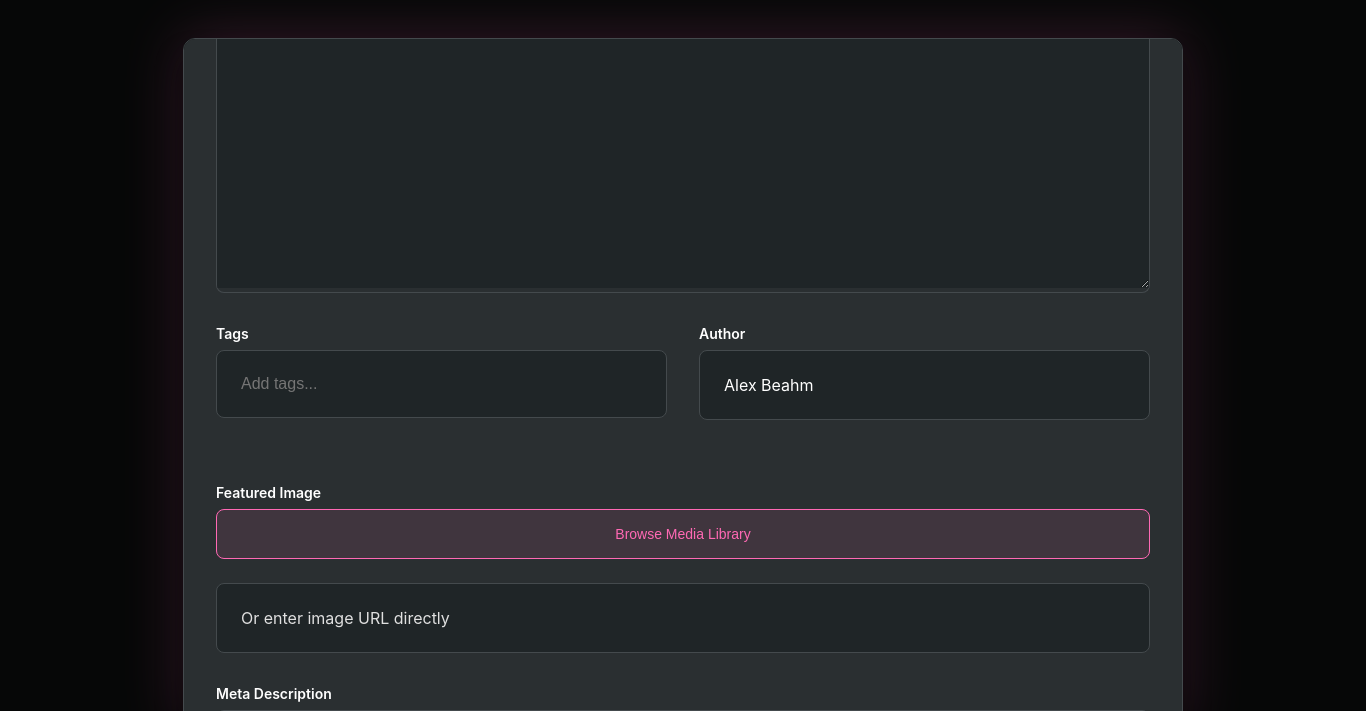
it: ArticleEditor › Tag Management › adds tag from suggestions
The image size is (1366, 711).
(page scrolled)
Type "Java" into the field with class "tag-input" at (442,384), box [216,350,667,418]
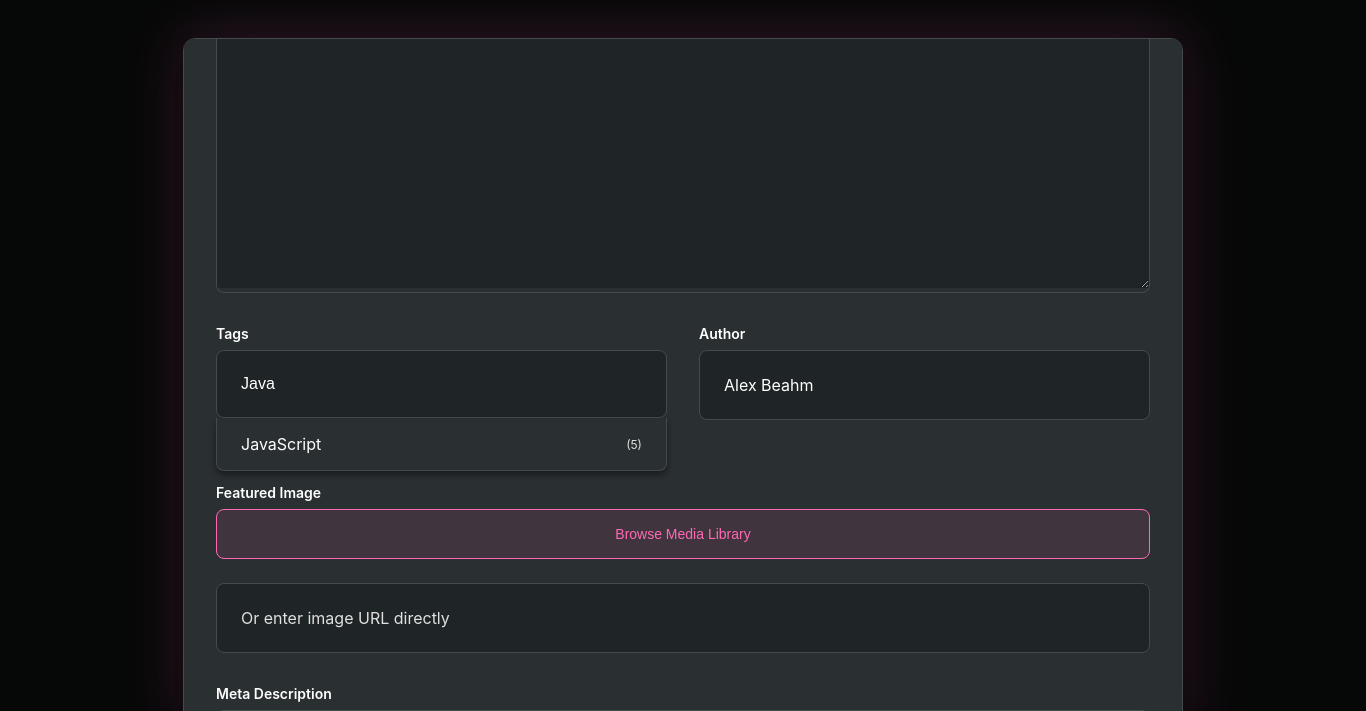
Click the element with class "tag-suggestion" at (281,444), box [241,434,642,454]
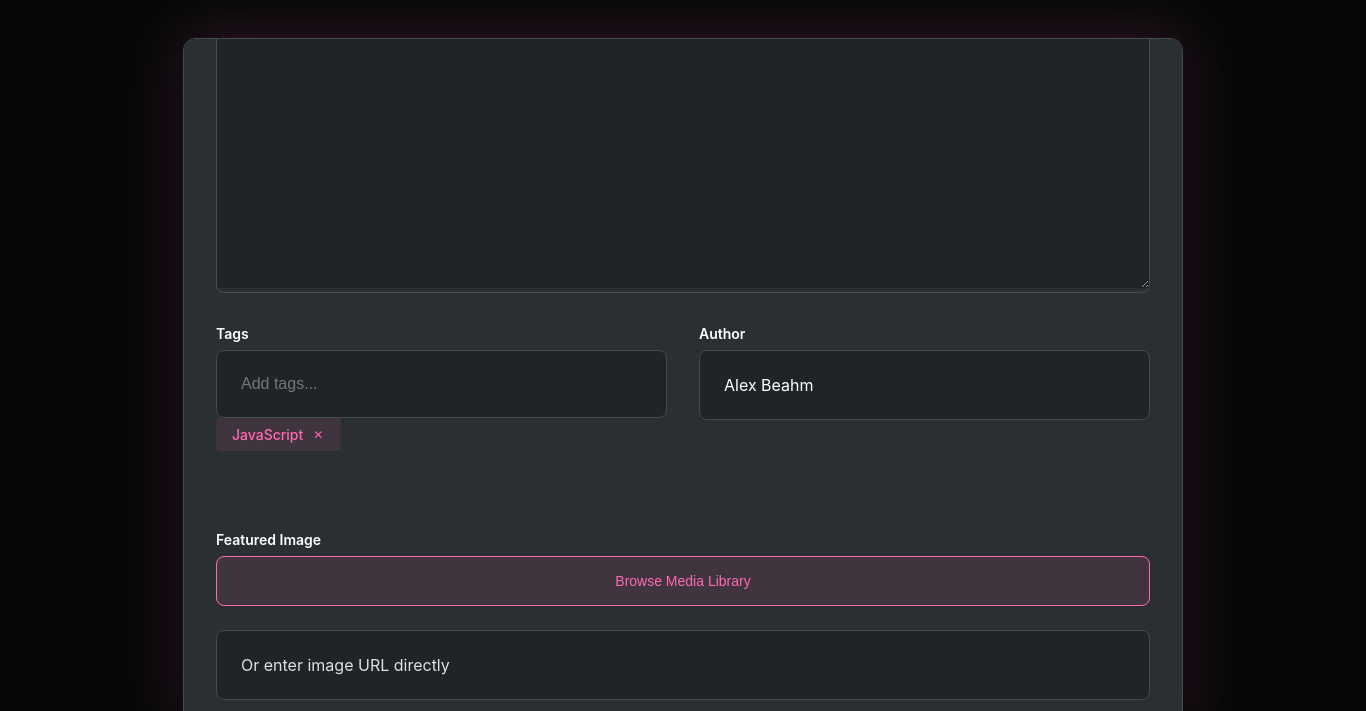
expect the element with class "selected-tag" shows "JavaScript": met, box [232,426,303,443]
expect the field with class "tag-input" is empty: met, box [216,350,667,418]
